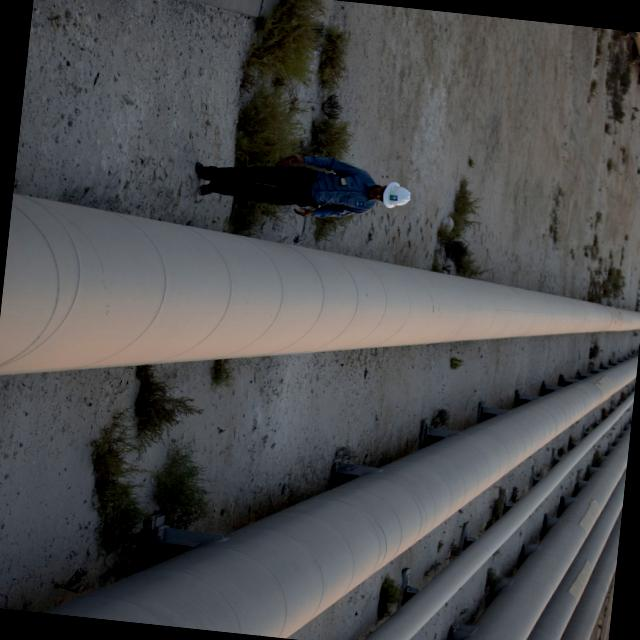gas: (43, 357, 638, 638), (0, 194, 640, 375), (361, 388, 635, 640), (460, 421, 631, 640), (525, 466, 626, 640), (559, 508, 622, 640)
